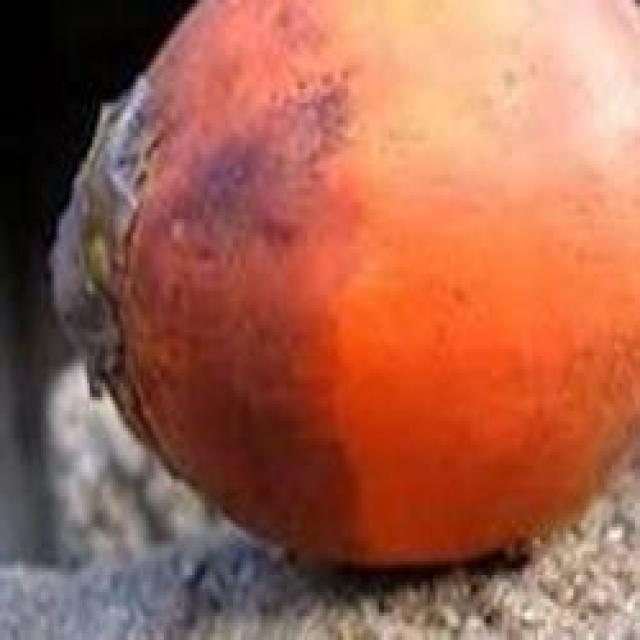good: (49, 0, 637, 578)
